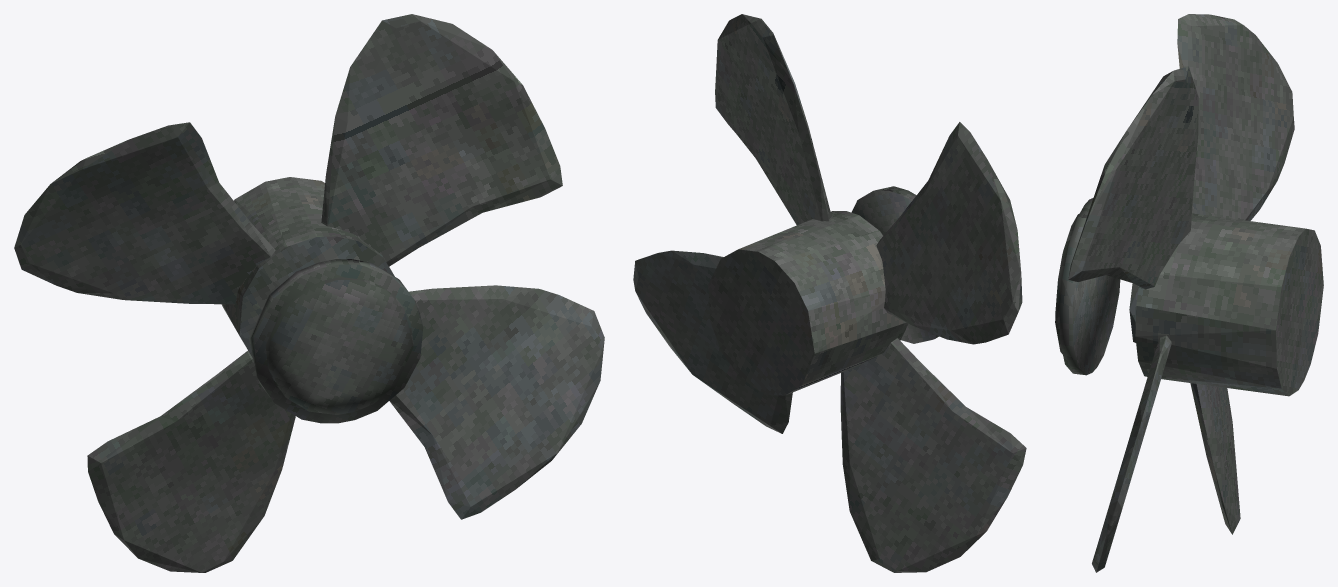
Rendered from fan blade reimport1.glb.
3 views of the same model, side by side, from view 1: azimuth 30°, elevation 25°; view 2: azimuth 150°, elevation 25°; view 3: azimuth 270°, elevation 25° (orthographic). The views are drawn at different scales.
Parts seen in each view (by area): view 1: fan spinner, fan grille cap; view 2: fan spinner, fan grille cap; view 3: fan spinner, fan grille cap.
Boxes of the visible parts, x1,y1,x2,y2 form: fan spinner: (14, 14, 604, 572); fan grille cap: (249, 259, 423, 423); fan spinner: (633, 14, 1026, 572); fan grille cap: (851, 186, 938, 343); fan spinner: (1068, 14, 1323, 572); fan grille cap: (1055, 198, 1120, 375).
Size of the model in its own units: 3.78 by 3.84 by 1.72.
Materials: 1 (1 with a texture image).
